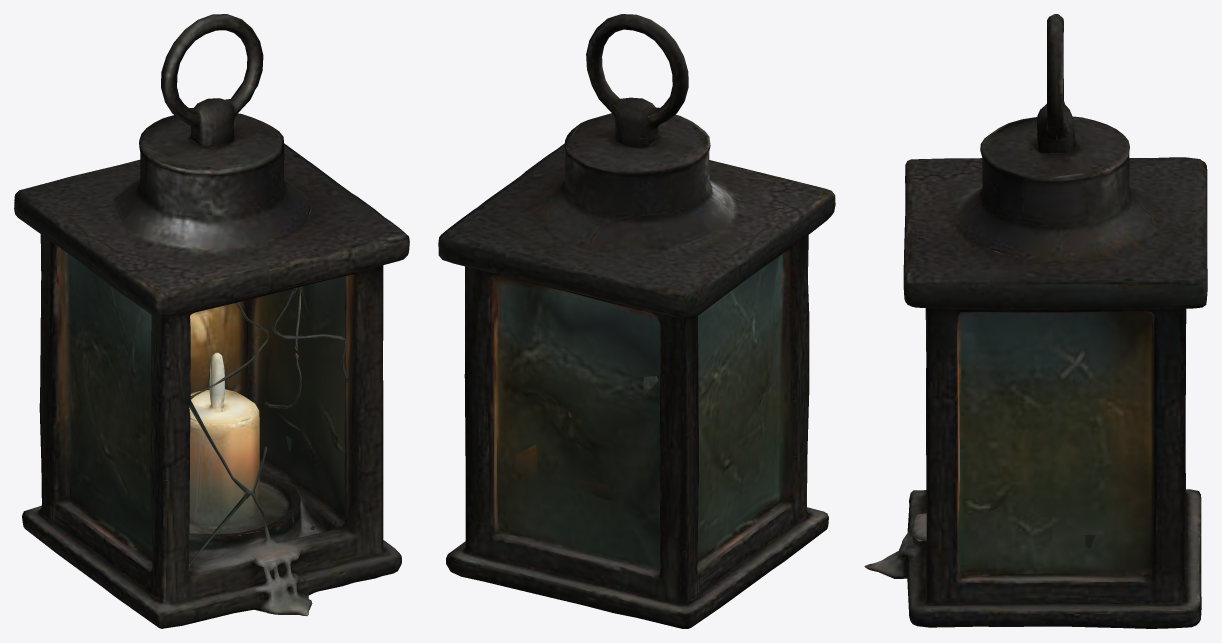
File: candle_lantern.glb
3 views of the same model, side by side, from view 1: azimuth 30°, elevation 25°; view 2: azimuth 150°, elevation 25°; view 3: azimuth 270°, elevation 25° (orthographic). The views are drawn at different scales.
Parts seen in each view (by area): view 1: prop; view 2: prop; view 3: prop.
Part boxes in pixels (x1,y1,x2,y2): prop: (14,14,409,628); prop: (438,14,835,628); prop: (864,14,1207,628).
Size of the model in its own units: 0.4999 by 1 by 0.5644.
Materials: 1 (1 with a texture image).
